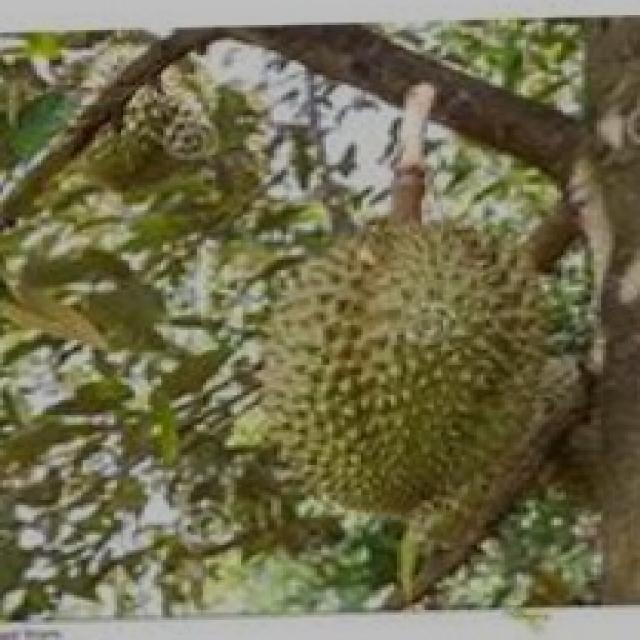fruit: (234, 182, 628, 558)
